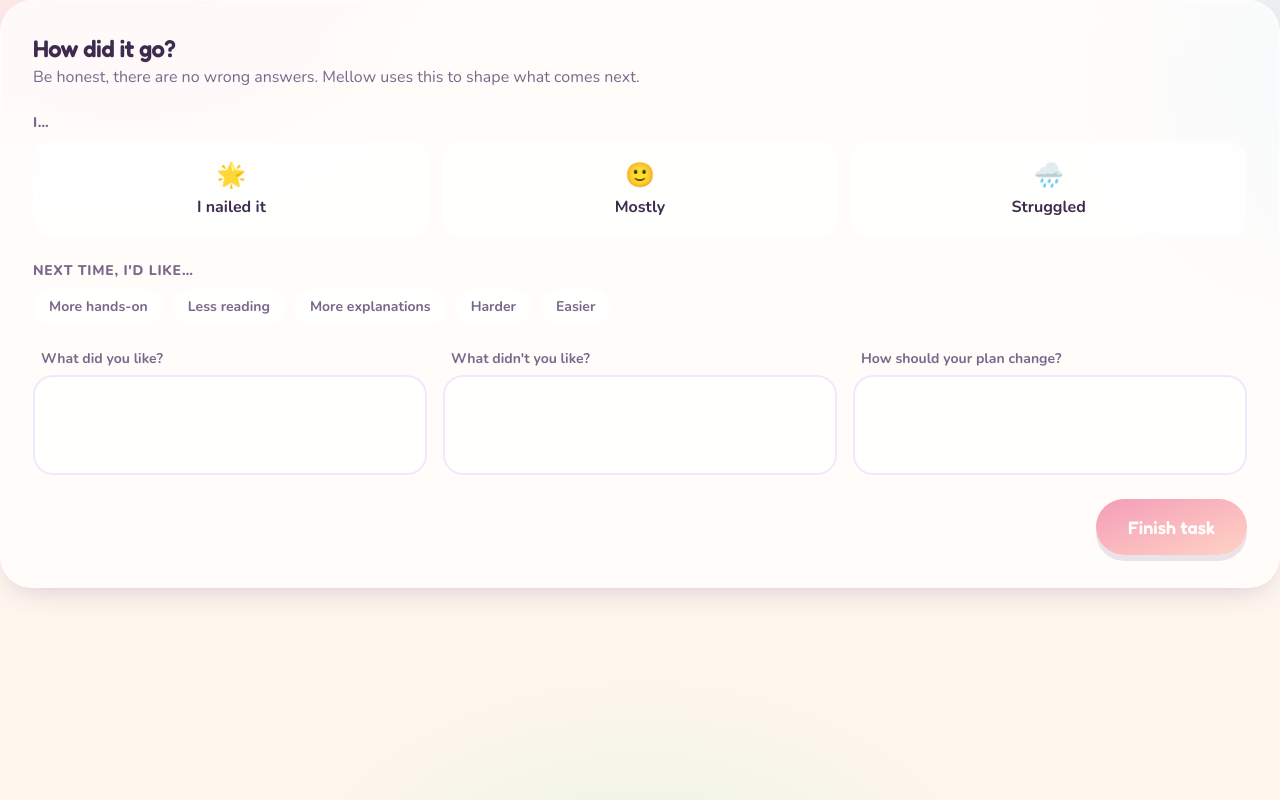
it: ReflectionForm › needs a self-assessment before it can be submitted
The width and height of the screenshot is (1280, 800).
Check: the button "Finish task" is disabled, box [1096,499,1247,555]
Click the radio button labelled "🙂 Mostly": coordinates (640, 189) [442,141,838,237]
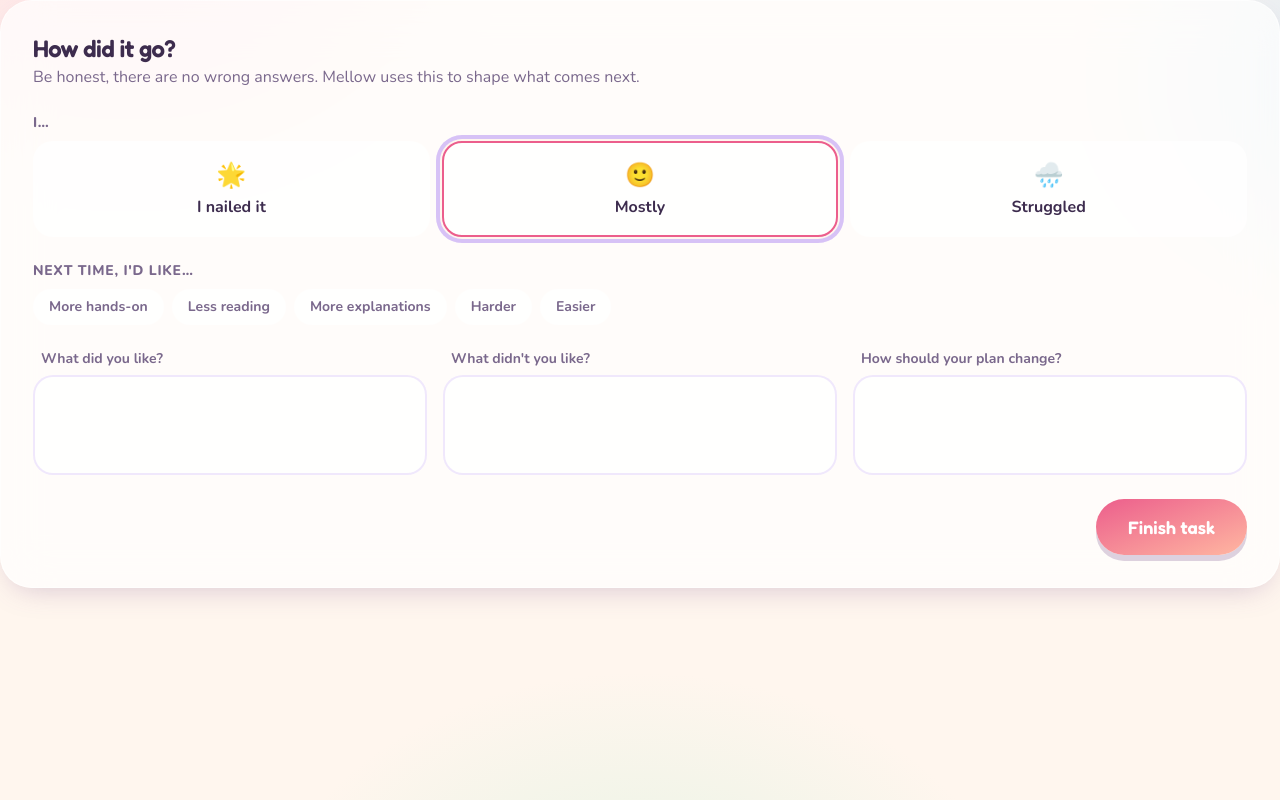
Check: the button "Finish task" is enabled, box [1096,499,1247,555]
